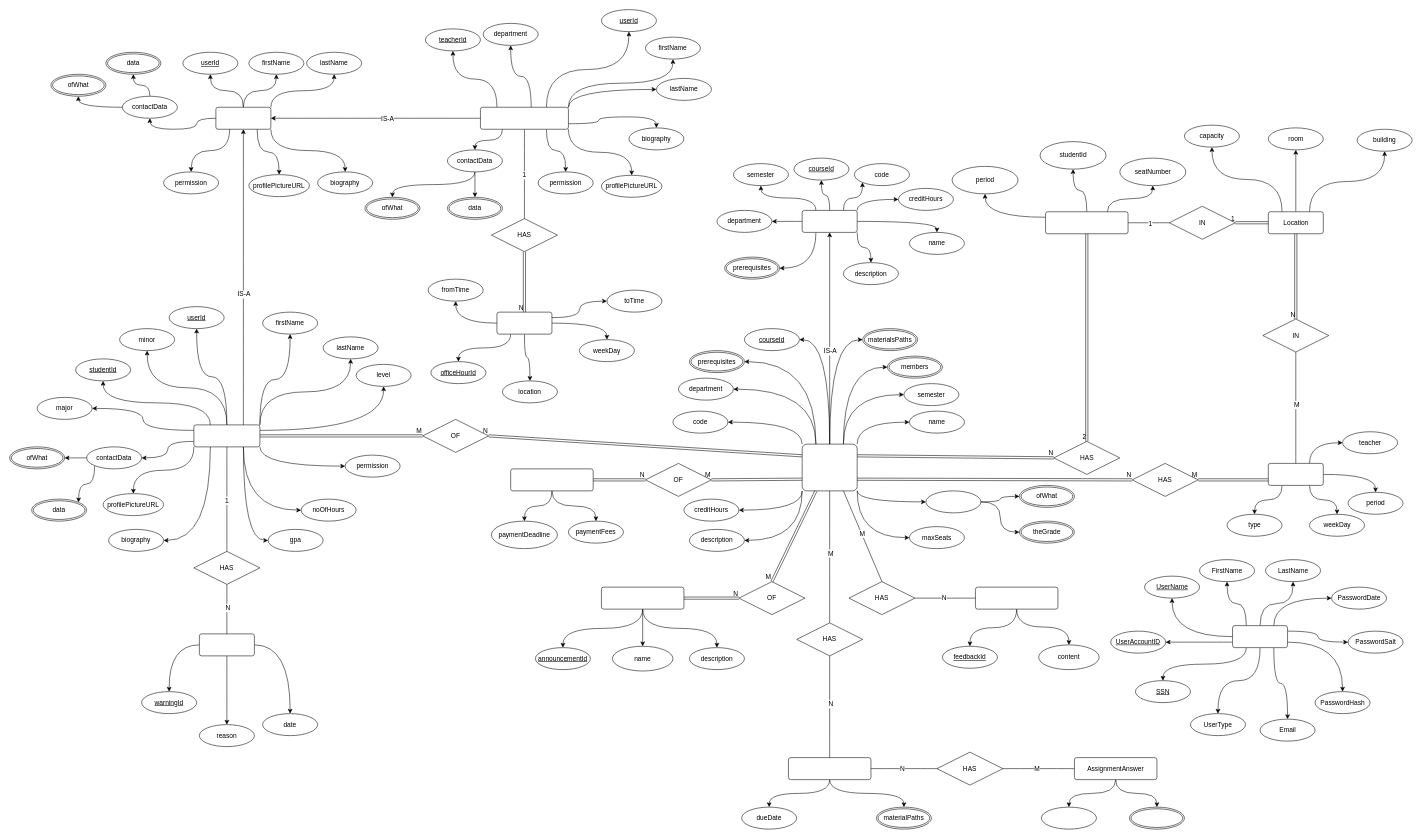
Some shapes in this 1422 by 839 pixel diagram are drawn without their labels. Each missing label, with the centre of its shape:
"Announcement" goes at point (642, 598).
"answerPaths" goes at point (1156, 818).
"Assignment" goes at point (829, 768).
"Course" goes at point (829, 221).
"Exam" goes at point (1086, 222).
"Feedback" goes at point (1016, 598).
"grade" goes at point (1068, 818).
"grades" goes at point (953, 501).
"OfficeHour" goes at point (524, 323).
"Registeration" goes at point (551, 479).
"SemesterCourse" goes at point (829, 467).
"Session" goes at point (1295, 474).
"StudentProfileInfo" goes at point (226, 435).
"TeachingStaffProfileInfo" goes at point (524, 118).
"UserAccount" goes at point (1260, 636).
"UserProfileInfo" goes at point (243, 118).
"Warning" goes at point (226, 644).
